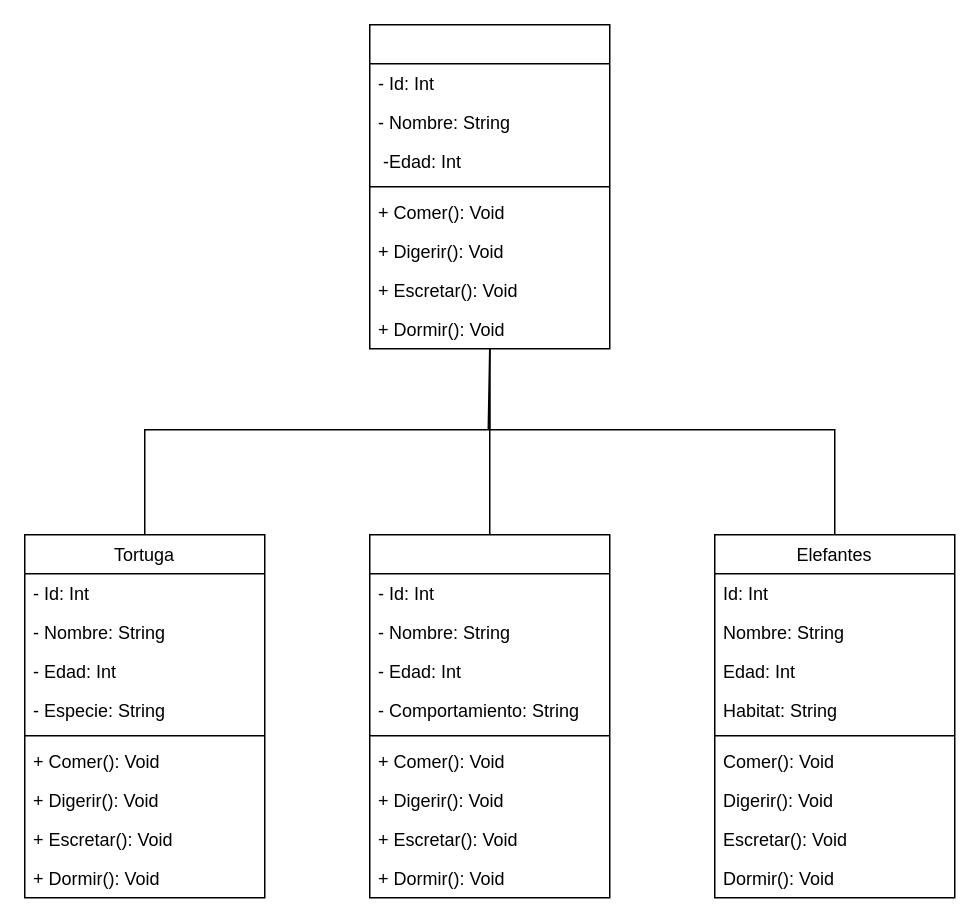
This 980x923 diagram has some shape labels left out. The box of each missing label's shape, as (x1, y1, x2, y2) in pixels:
Animal: (368, 23, 610, 349)
Tigres: (368, 533, 610, 898)
